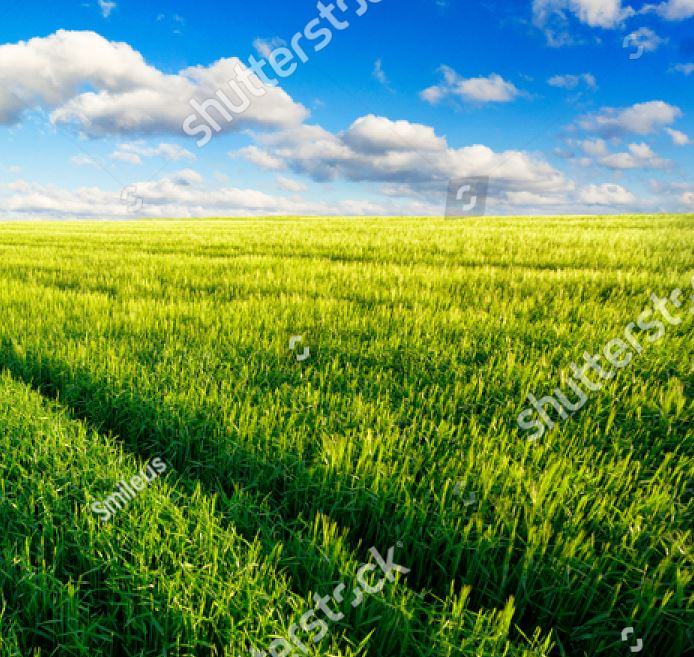Wheat: (12, 505, 256, 650)
